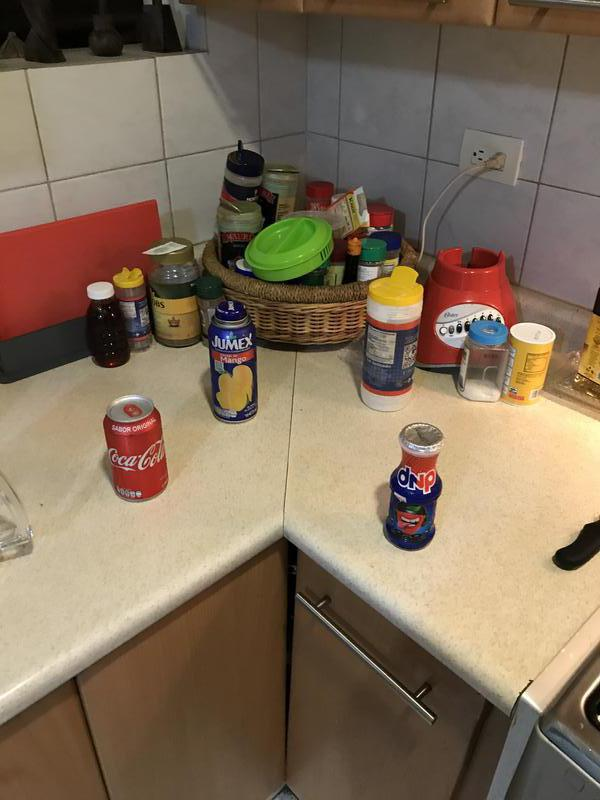coca_cola: (101, 397, 170, 502)
danup: (386, 422, 442, 553)
jugo_jumex: (207, 303, 260, 424)
